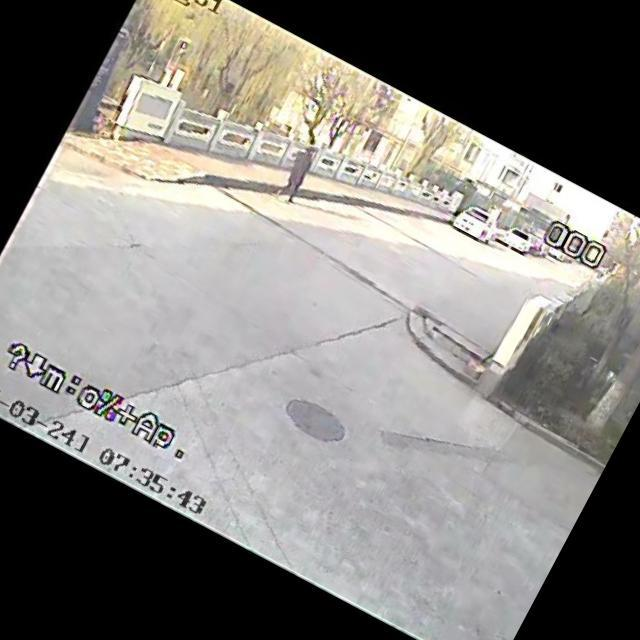person: (255, 122, 338, 217)
